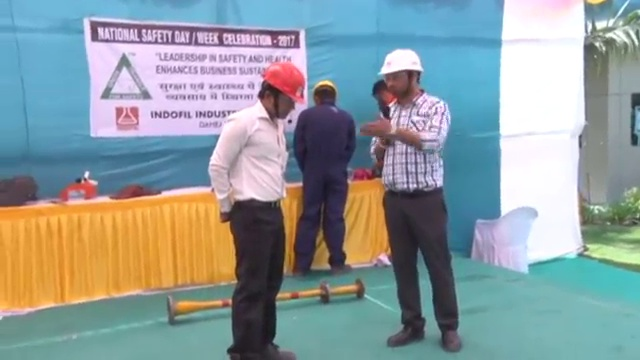helmet: (260, 60, 306, 104), (375, 48, 425, 76), (312, 80, 340, 97)
helmet_off: (368, 76, 400, 109)
helmet_on: (253, 59, 306, 124), (375, 48, 425, 106), (311, 79, 341, 108)
person: (361, 48, 464, 352), (207, 60, 307, 357), (293, 80, 358, 279)
